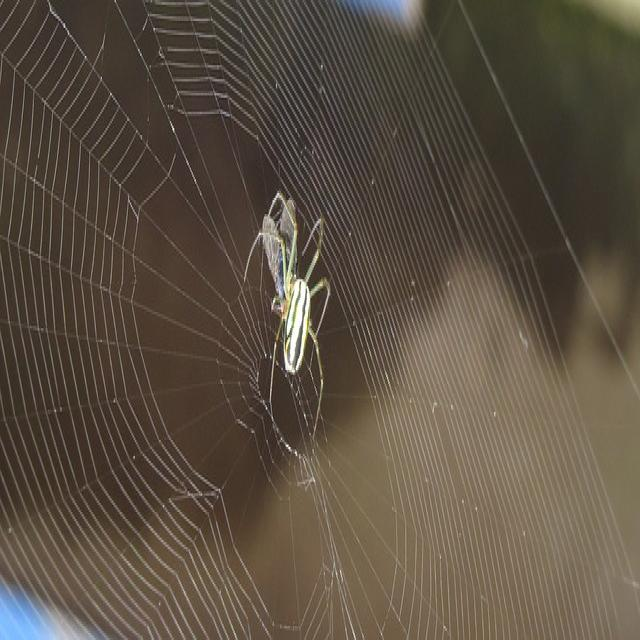spyder: (259, 192, 330, 426)
